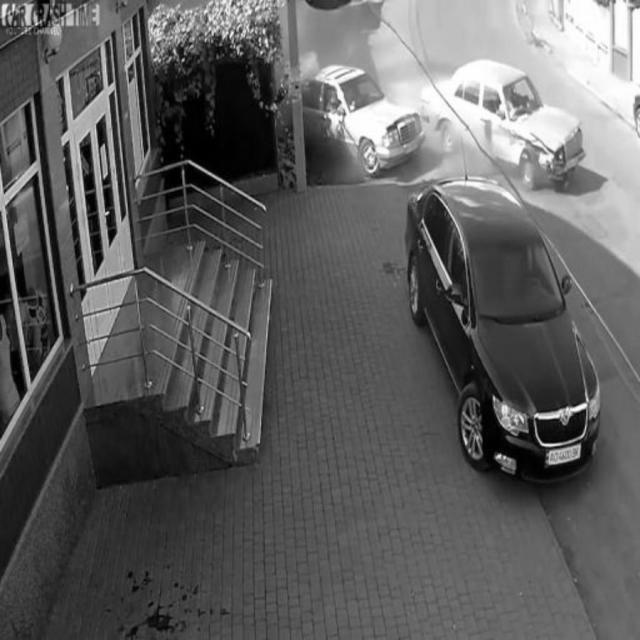accident: (307, 52, 595, 180)
vehicle: (411, 188, 587, 479)
